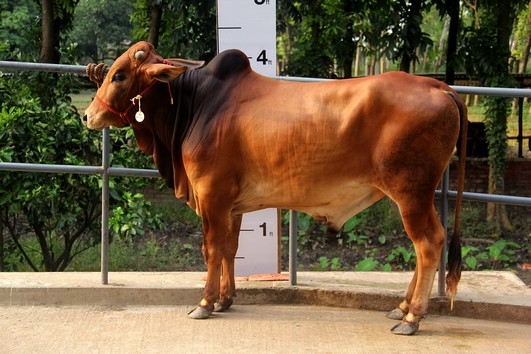cow: (80, 35, 470, 341)
